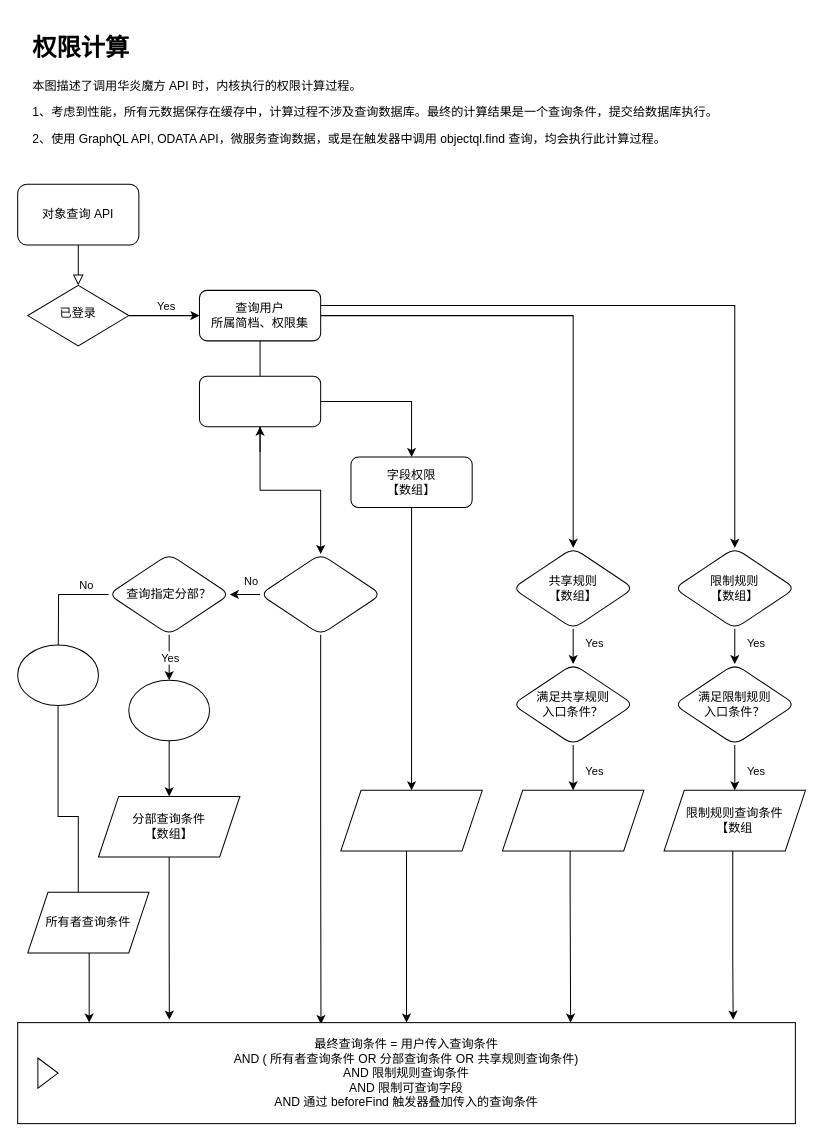
Some shapes in this 823 by 1141 pixel diagram are drawn without their labels. Each missing label, with the centre of its shape:
"共享规则查询条件 【数组】" belongs at point 572,820.
"对象权限 【数组】" belongs at point 259,401.
"查询 分部数据" belongs at point 169,710.
"查询 本人数据" belongs at point 57,674.
"查询所有？" belongs at point 320,594.
"限制可查询字段 【数组】" belongs at point 411,820.
